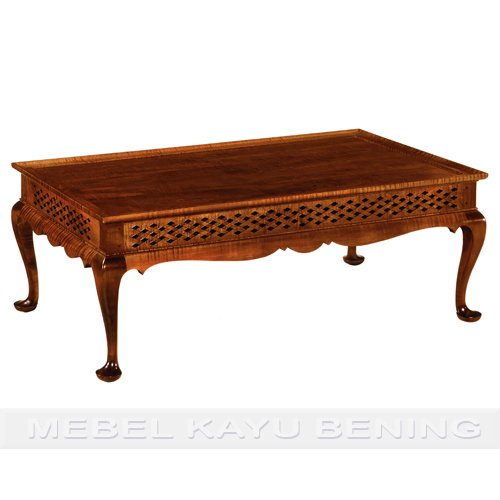Carving Table: (11, 141, 465, 361)
